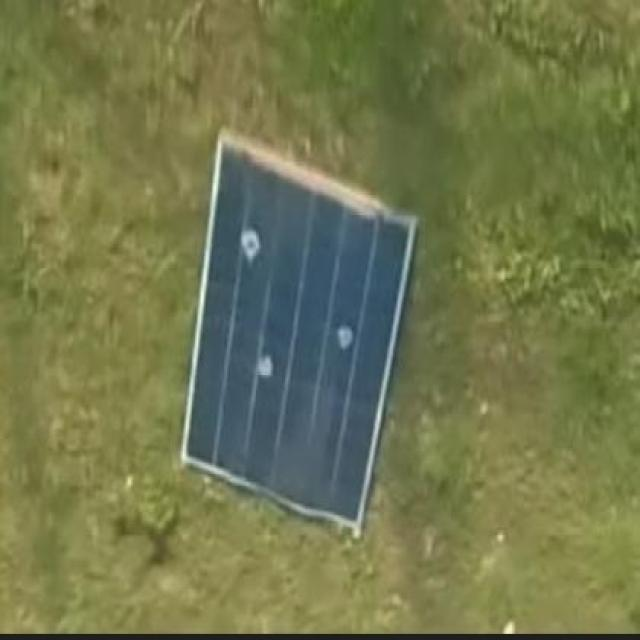soiled: (180, 123, 423, 540)
